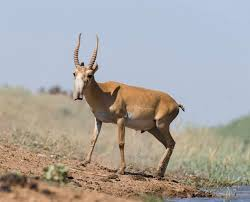saiga: (71, 33, 188, 176)
